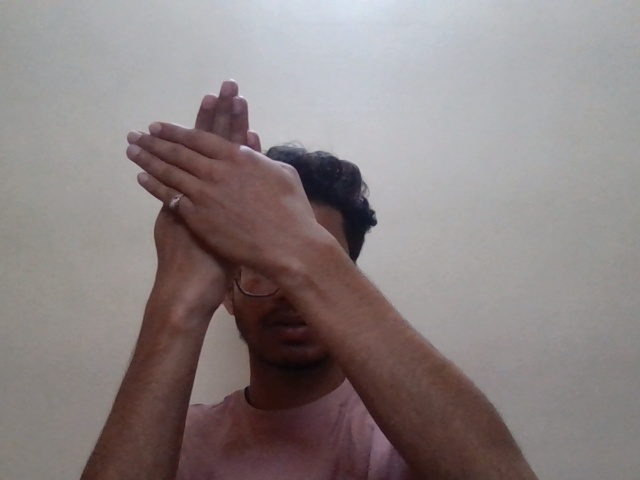what: (112, 76, 323, 276)
